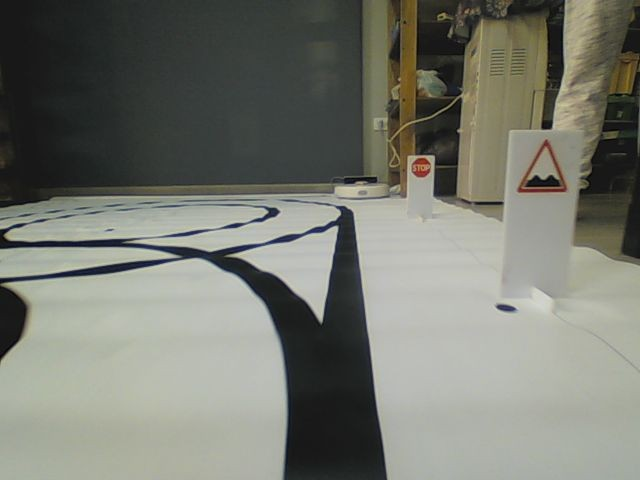Stop: (410, 158, 432, 179)
